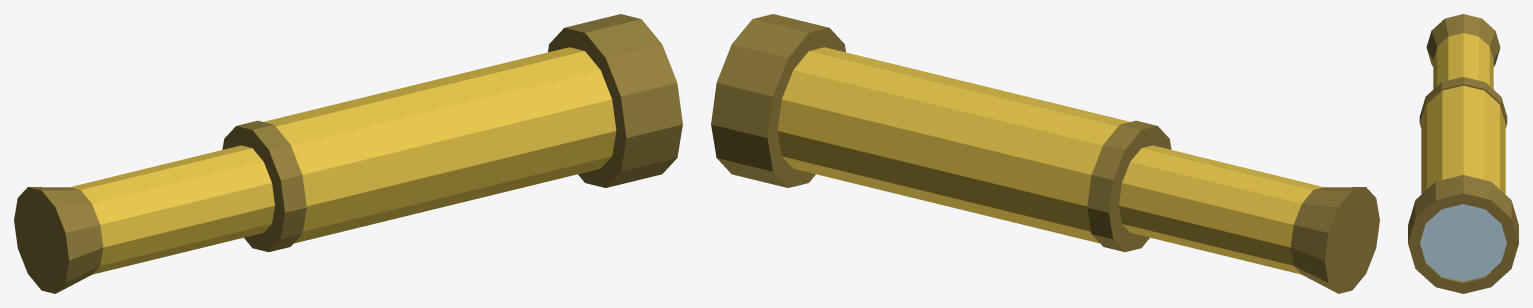
The model's file is Spyglass.fbx.
The picture shows the model from 3 angles, left to right: view 1: azimuth 30°, elevation 25°; view 2: azimuth 150°, elevation 25°; view 3: azimuth 270°, elevation 25°; orthographic projection. The views are drawn at different scales.
Visible parts, largest first — view 1: Spyglass_Body, Spyglass_Inner, Spyglass_Ring_2, Spyglass_Eyepiece, Spyglass_Ring_1; view 2: Spyglass_Body, Spyglass_Inner, Spyglass_Ring_2, Spyglass_Eyepiece, Spyglass_Ring_1; view 3: Spyglass_Body, Spyglass_Lens, Spyglass_Ring_Front, Spyglass_Inner, Spyglass_Ring_2, Spyglass_Eyepiece, Spyglass_Ring_1.
Boxes of the visible parts, box(x1,y1,x2,y2) form: Spyglass_Body: box(264, 47, 616, 243); Spyglass_Inner: box(70, 145, 274, 274); Spyglass_Ring_2: box(548, 14, 682, 187); Spyglass_Eyepiece: box(14, 187, 103, 293); Spyglass_Ring_1: box(222, 120, 306, 252); Spyglass_Body: box(777, 47, 1129, 243); Spyglass_Inner: box(1119, 145, 1323, 274); Spyglass_Ring_2: box(711, 14, 845, 187); Spyglass_Eyepiece: box(1290, 187, 1379, 293); Spyglass_Ring_1: box(1087, 120, 1171, 252); Spyglass_Body: box(1421, 85, 1505, 194); Spyglass_Lens: box(1420, 204, 1506, 281); Spyglass_Ring_Front: box(1408, 193, 1518, 293); Spyglass_Inner: box(1433, 33, 1493, 89); Spyglass_Ring_2: box(1408, 175, 1518, 283); Spyglass_Eyepiece: box(1426, 14, 1500, 66); Spyglass_Ring_1: box(1419, 77, 1507, 127).
Bounding box in the file's own units: 276 × 66 × 66.
